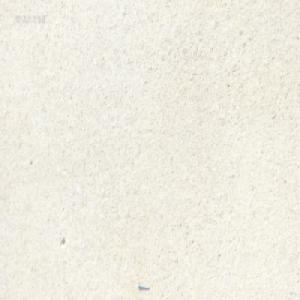Nail: (137, 281, 149, 290)
